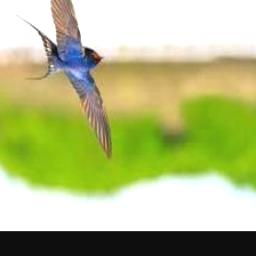Swallow: (15, 0, 111, 163)
